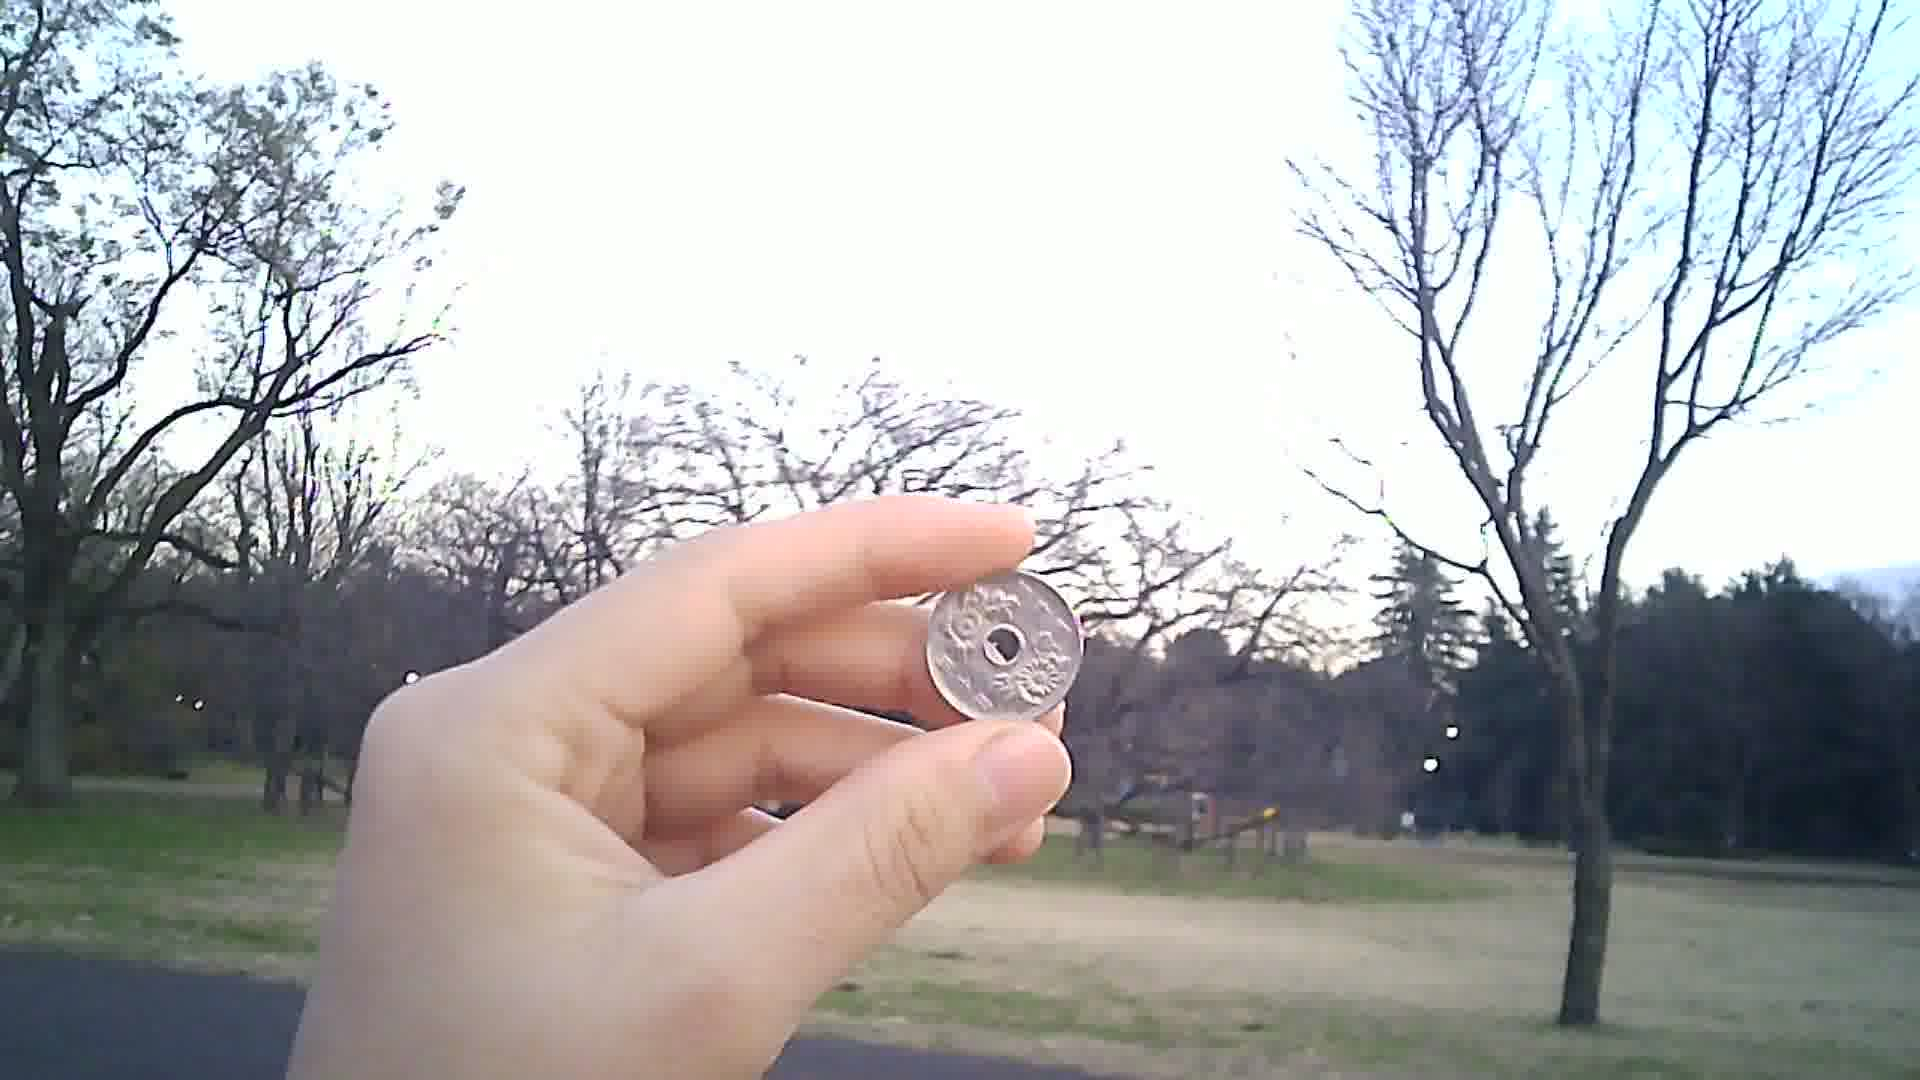50 Yen: (924, 556, 1079, 728)
